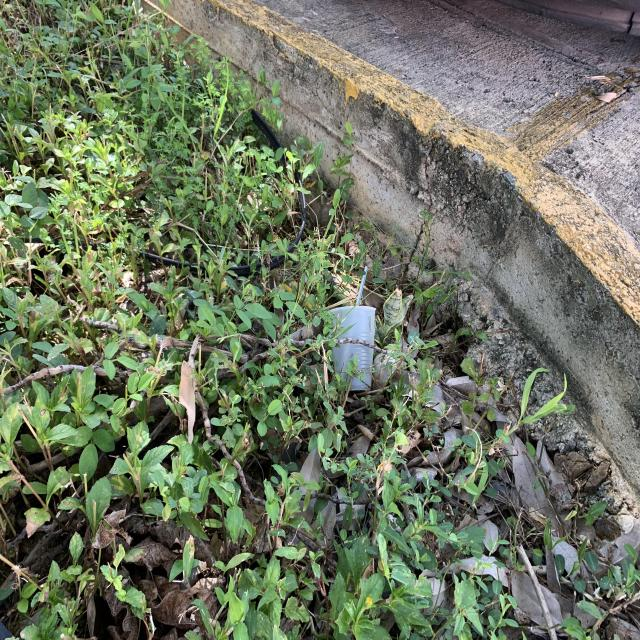litter: (326, 306, 376, 392), (356, 266, 368, 305)
